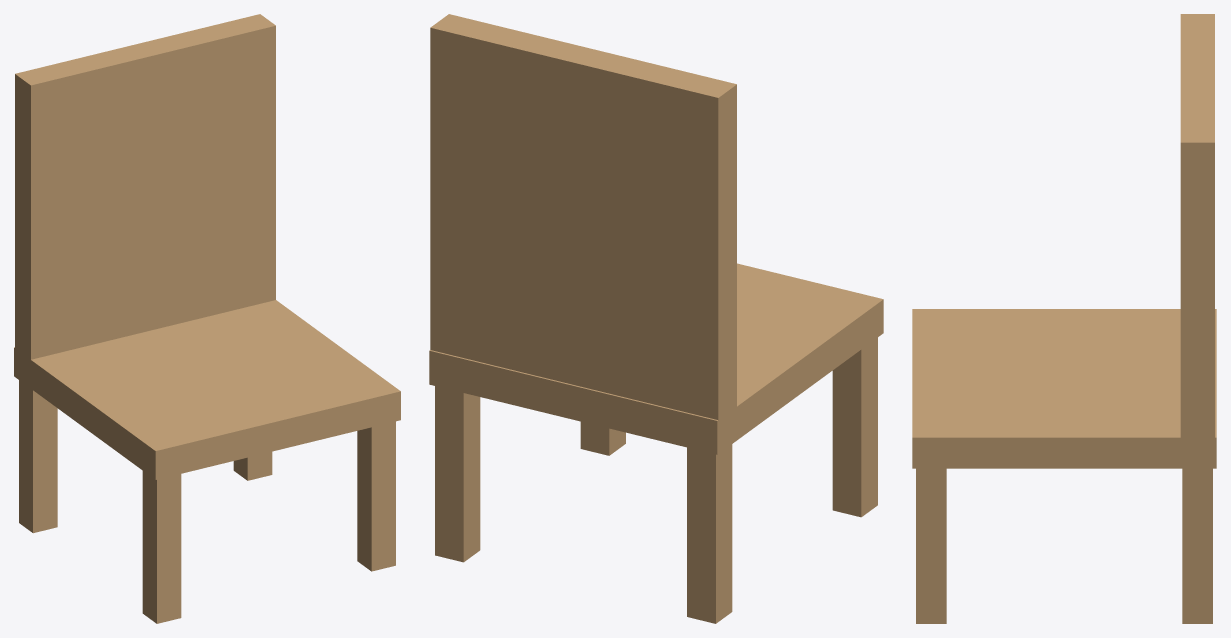
Rendered from chair.glb.
3 renders of one model, left to right at view 1: azimuth 30°, elevation 25°; view 2: azimuth 150°, elevation 25°; view 3: azimuth 270°, elevation 25°, orthographic. The views are drawn at different scales.
Bounding box in the file's own units: 1.6 × 2.8 × 1.6.
